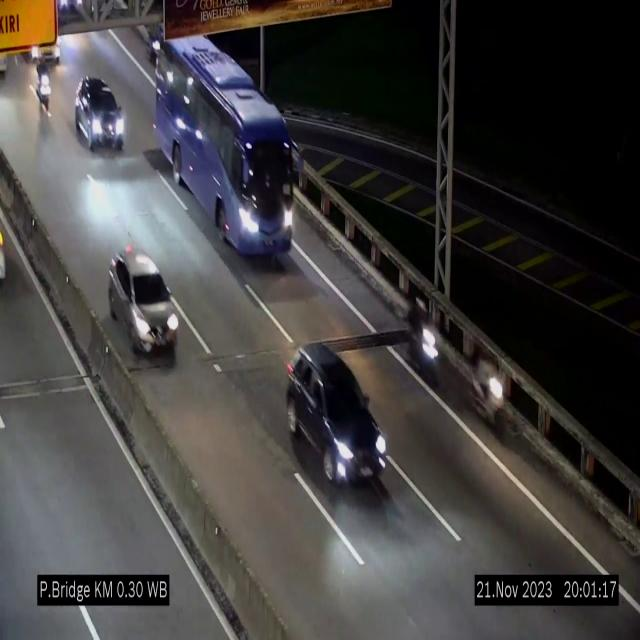Bus: (153, 37, 297, 265)
Car: (286, 339, 391, 494), (109, 249, 179, 358), (76, 76, 126, 152)
Motorcycle: (408, 300, 450, 390), (472, 353, 509, 442), (34, 54, 52, 120)
